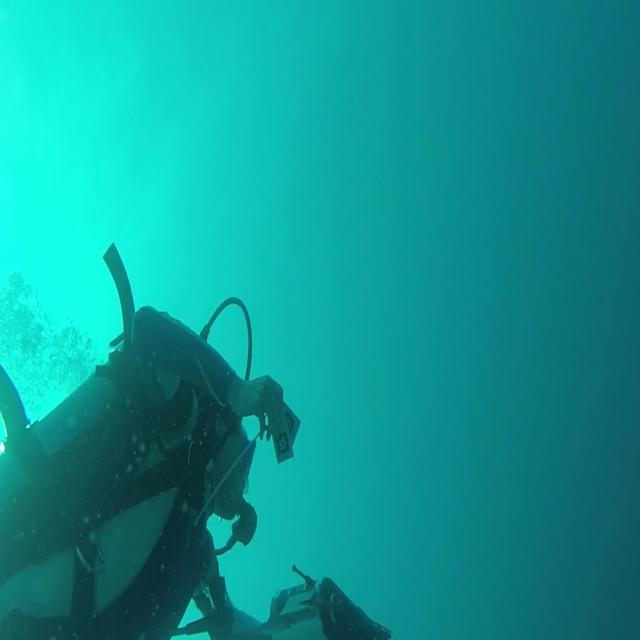human: (0, 245, 299, 640)
